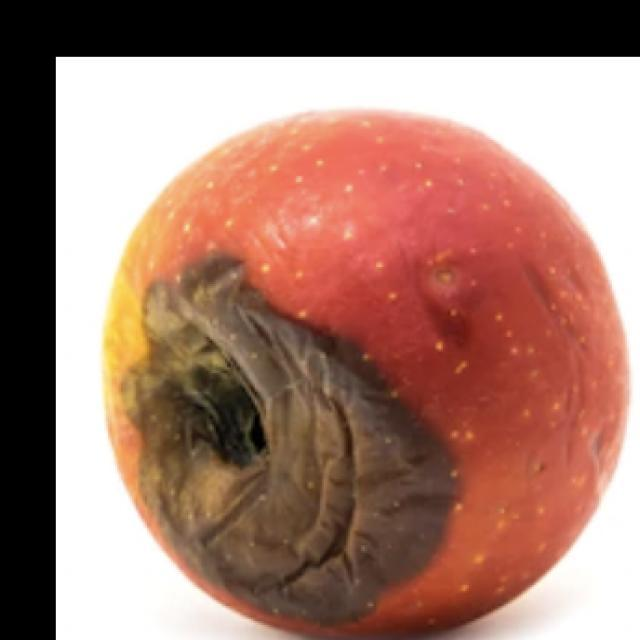Rotten: (95, 100, 628, 640)
